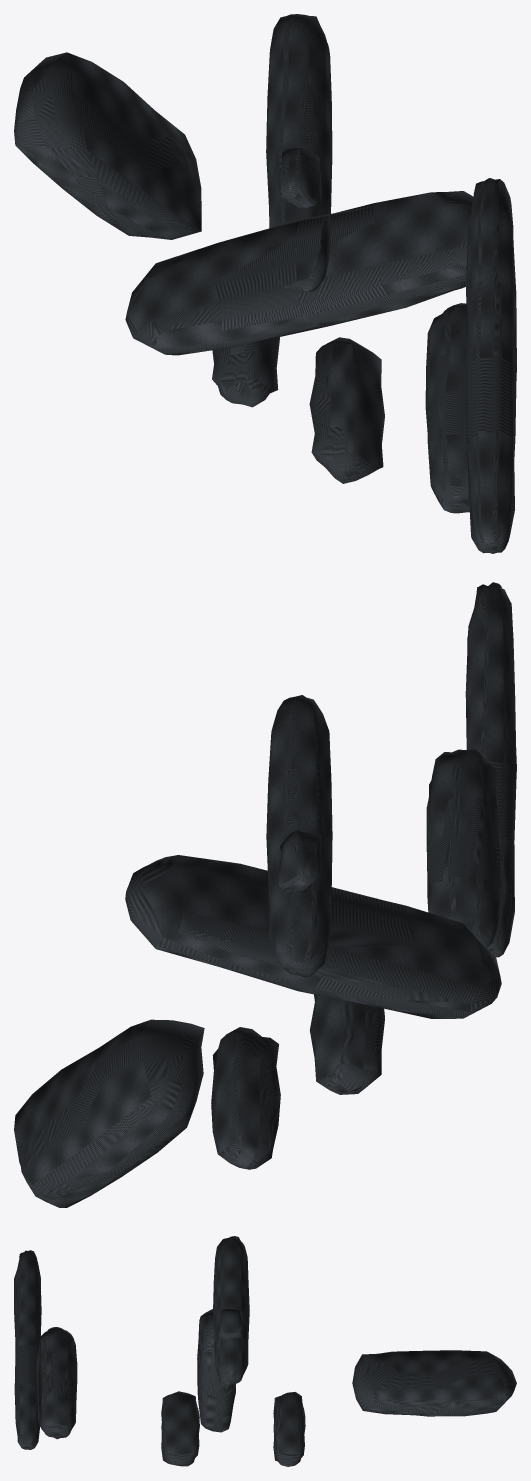
File: gun_sniper_low.glb
3 renders of one model, top to bottom at view 1: azimuth 30°, elevation 25°; view 2: azimuth 150°, elevation 25°; view 3: azimuth 270°, elevation 25°, orthographic. The views are drawn at different scales.
Size of the model in its own units: 0.3181 by 0.3455 by 0.6928.
1 material, 1 textured.
